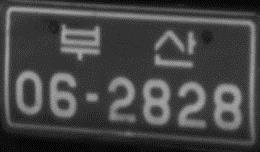-: (82, 91, 102, 105)
0: (14, 69, 44, 118)
2: (174, 80, 206, 131), (106, 74, 137, 124)
6: (46, 70, 77, 121)
8: (139, 77, 172, 126), (211, 83, 244, 132)
부산_D: (57, 20, 198, 68)
